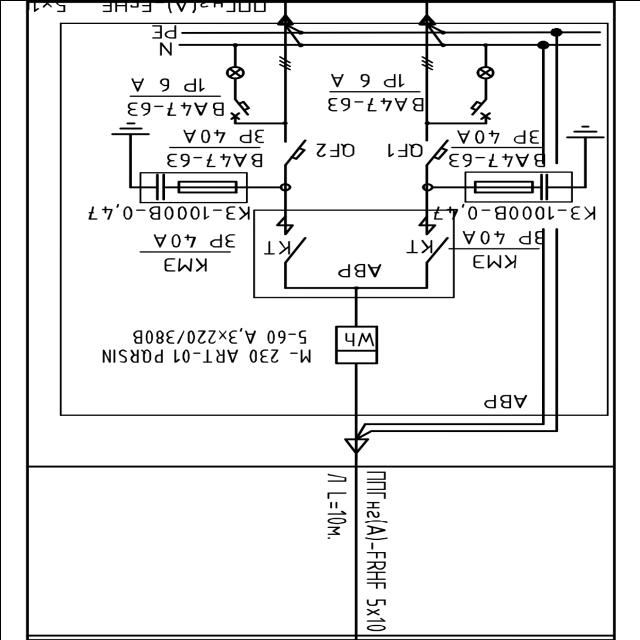-: (99, 324, 312, 366), (157, 125, 265, 169), (122, 75, 224, 120), (324, 71, 424, 114), (446, 127, 544, 169), (136, 230, 240, 248), (454, 228, 544, 244), (397, 236, 435, 256), (258, 235, 292, 255)
AVR: (330, 260, 384, 280)
HL: (224, 65, 246, 79), (476, 64, 494, 80)
KM: (414, 215, 450, 263), (270, 215, 306, 262)
QF: (226, 90, 256, 120), (280, 136, 310, 166), (466, 90, 496, 120), (418, 134, 448, 164)
WH: (331, 321, 381, 367)
